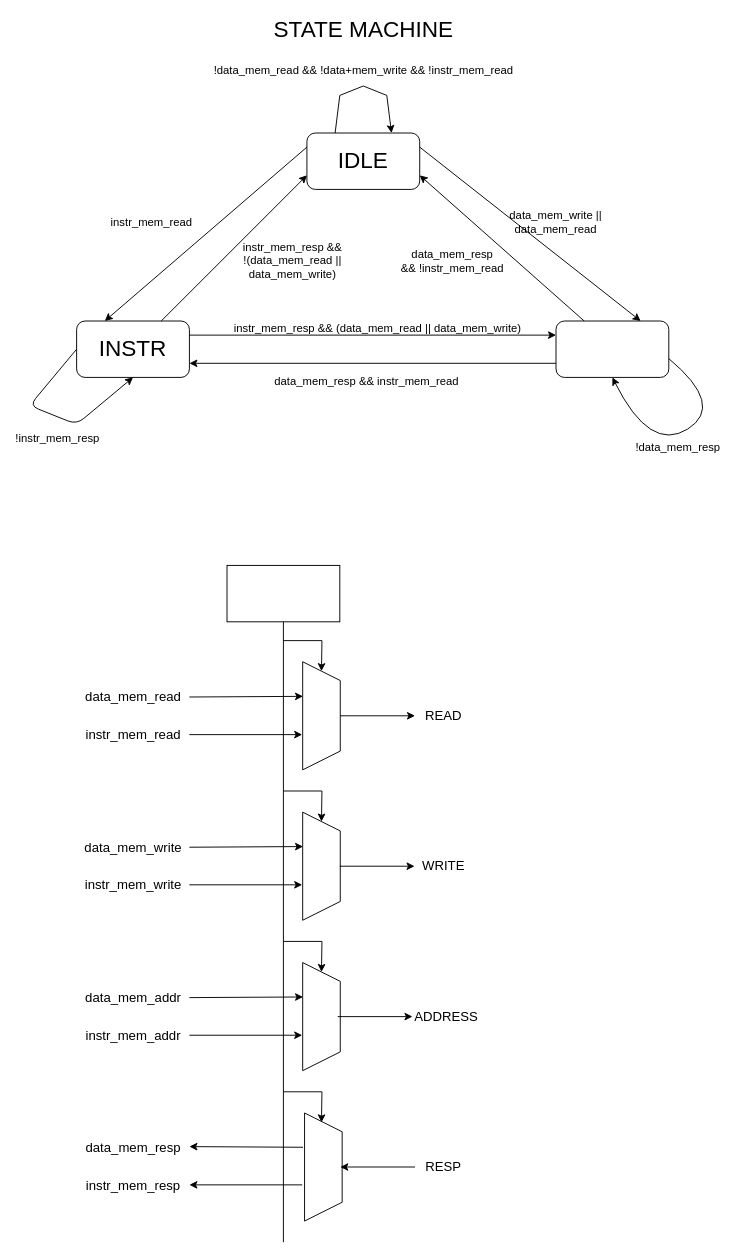
Some shapes in this 737 by 1260 pixel diagram are drawn without their labels. The box of each missing label's shape, as (x1, y1, x2, y2) in pixels:
Arbiter Select: (226, 564, 340, 622)
DATA: (555, 320, 669, 377)
